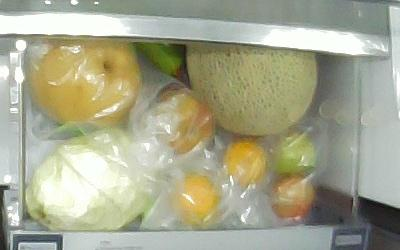cabbage_vinyl: (25, 128, 159, 232)
melon: (187, 41, 317, 135)
pear_vinyl: (27, 37, 138, 126)
prune_vinyl: (150, 88, 209, 154)
tangerine_vinyl: (171, 174, 217, 223), (224, 139, 266, 188)
tomato_vinyl: (267, 129, 316, 178), (268, 174, 313, 219)
zucchini: (141, 41, 187, 89)
